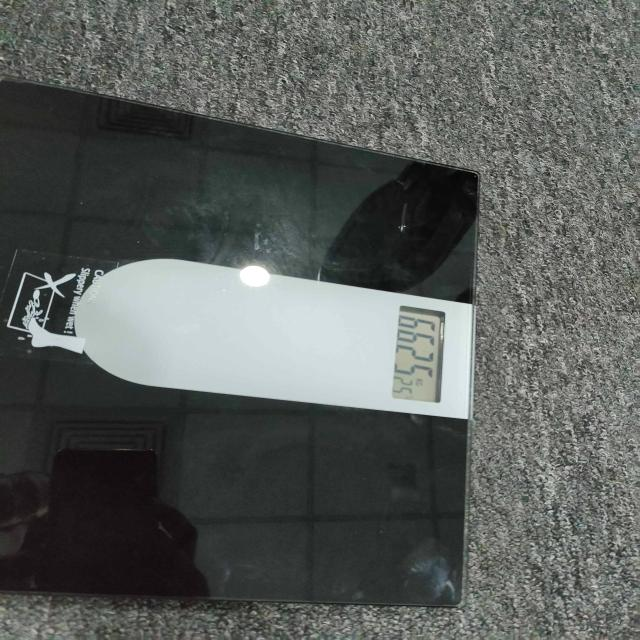ws: (35, 258, 474, 429)
